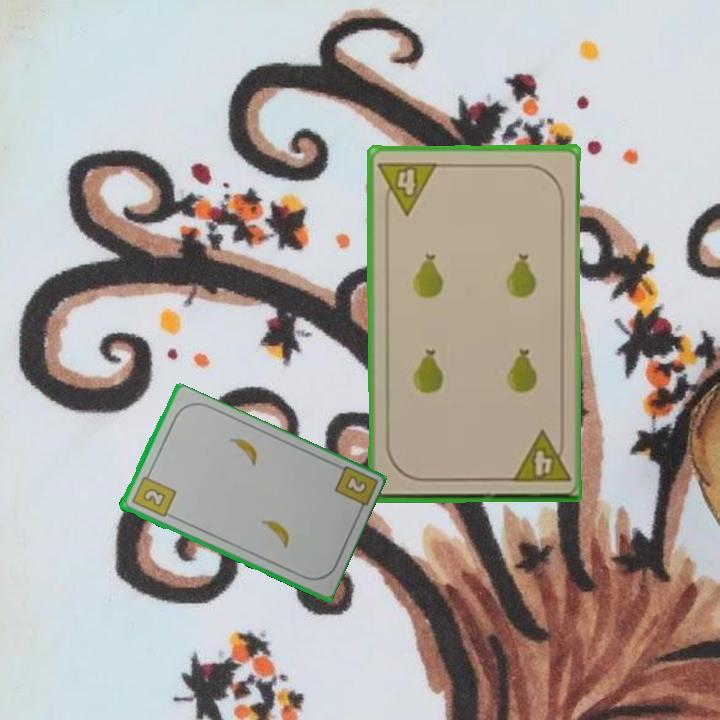2b: (128, 468, 178, 520), (341, 472, 370, 497)
4p: (375, 157, 440, 217), (508, 428, 573, 485)
